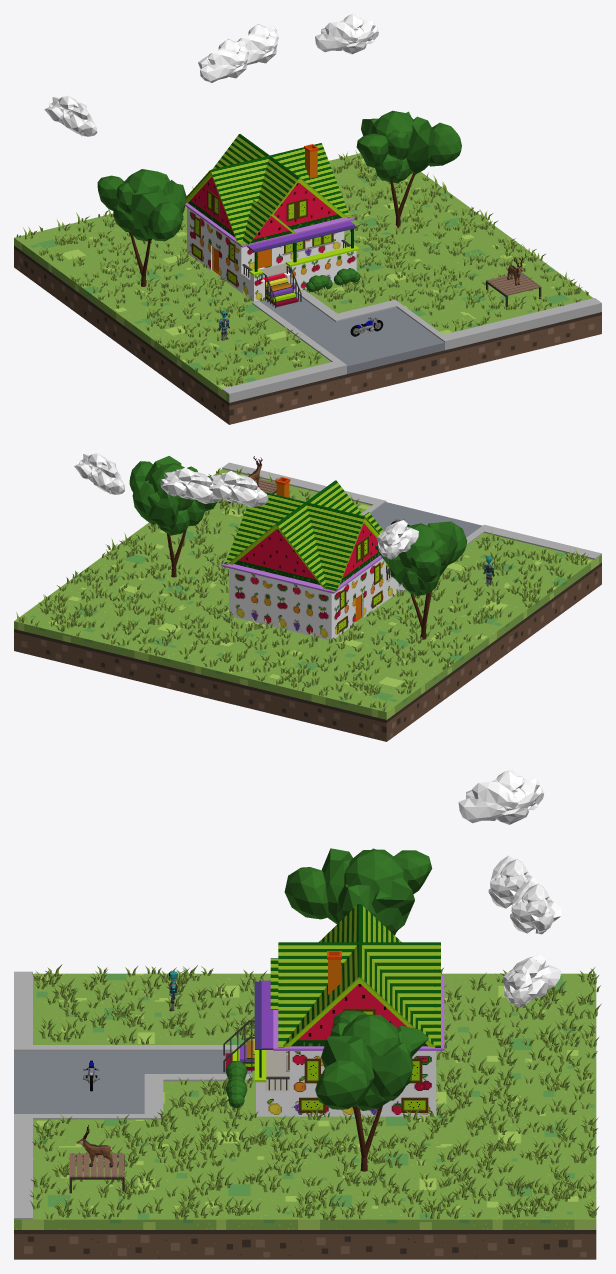
3 renders of one model, top to bottom at view 1: azimuth 30°, elevation 25°; view 2: azimuth 150°, elevation 25°; view 3: azimuth 270°, elevation 25°, orthographic. The views are drawn at different scales.
Visible parts, largest first — view 1: Cube.006, Cube.1063, Circle.012_Grass_0.192, Cube.007, tree, tree.001, Cube.009; view 2: Cube.006, Cube.1063, Circle.012_Grass_0.192, Cube.007, tree.001, tree; view 3: Cube.006, Circle.012_Grass_0.192, Cube.1063, tree, Cube.007, tree.001, Cube.009.
Boxes of the visible parts, bbox=[...] form: Cube.006: bbox=[14, 153, 601, 424]; Cube.1063: bbox=[185, 134, 359, 308]; Circle.012_Grass_0.192: bbox=[16, 150, 588, 386]; Cube.007: bbox=[44, 14, 378, 136]; tree: bbox=[356, 110, 461, 228]; tree.001: bbox=[97, 169, 186, 286]; Cube.009: bbox=[486, 272, 541, 306]; Cube.006: bbox=[14, 462, 601, 741]; Cube.1063: bbox=[221, 477, 398, 640]; Circle.012_Grass_0.192: bbox=[16, 468, 588, 711]; Cube.007: bbox=[74, 453, 418, 559]; tree.001: bbox=[375, 521, 467, 639]; tree: bbox=[129, 456, 216, 577]; Cube.006: bbox=[14, 971, 596, 1259]; Circle.012_Grass_0.192: bbox=[29, 964, 601, 1220]; Cube.1063: bbox=[223, 903, 444, 1116]; tree: bbox=[315, 1010, 428, 1171]; Cube.007: bbox=[458, 770, 561, 1007]; tree.001: bbox=[284, 848, 432, 935]; Cube.009: bbox=[69, 1153, 124, 1193].
Bounding box in the file's own units: 4071 × 2153 × 4040.
36 materials, 5 textured.
